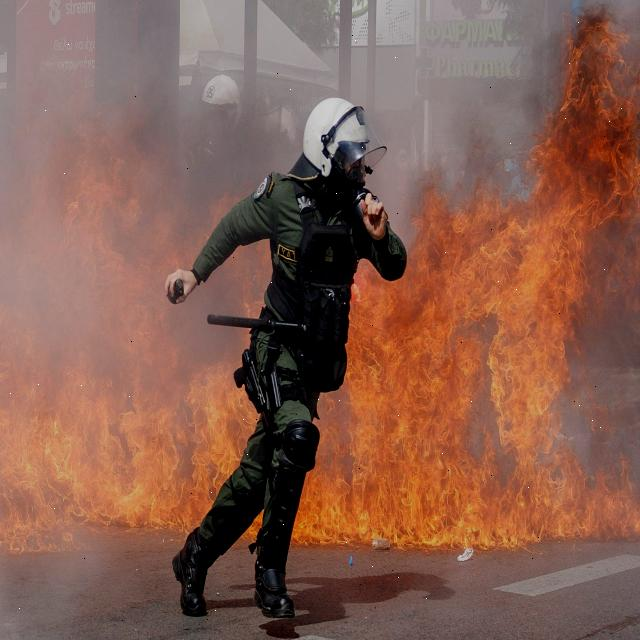police: (147, 59, 453, 640)
